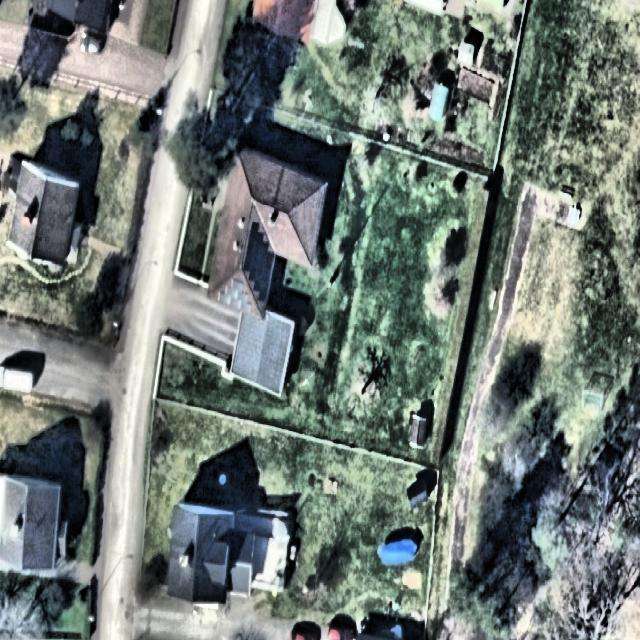roof_pv: (242, 218, 276, 304), (217, 274, 255, 318)
